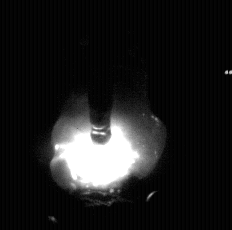arame: (89, 0, 114, 144)
poca: (50, 0, 166, 230)
